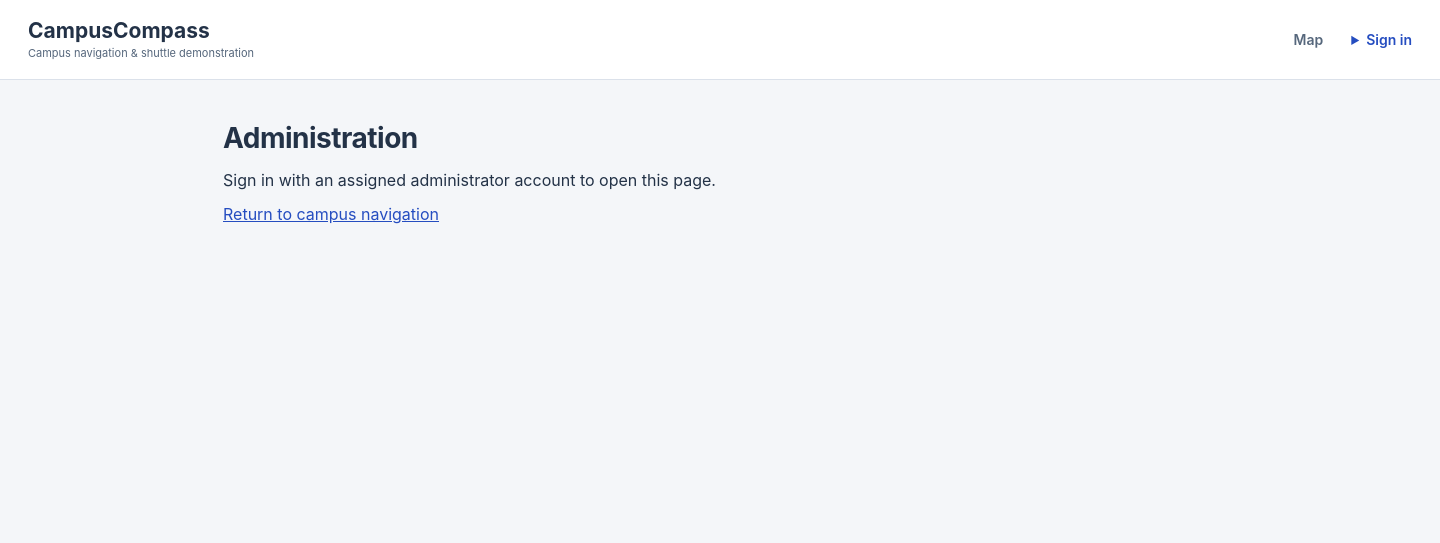
Scenario: direct admin URL is protected and a student has no admin controls
Check: the message shows "assigned administrator", box [223,170,716,190]
Click the heading "Sign in".
click(1389, 40)  # box [1366,31,1412,48]
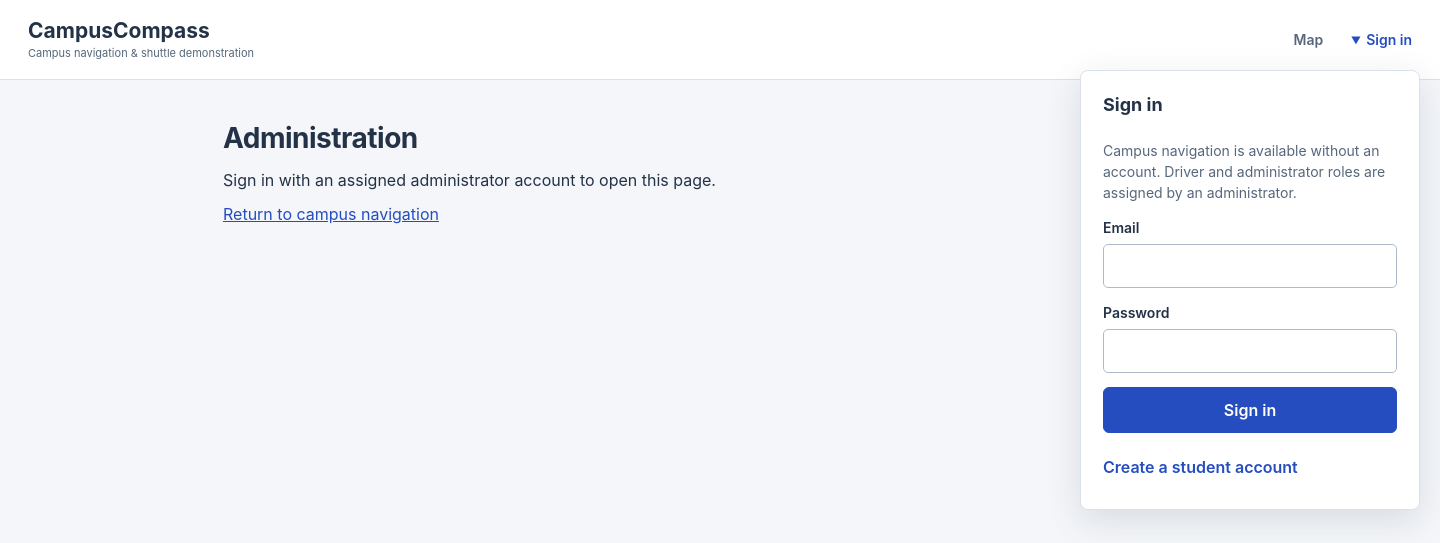
Type "demo@example.test" into the field labelled "Email".
click(1250, 266); type("demo@example.test")  # box [1103,244,1397,288]
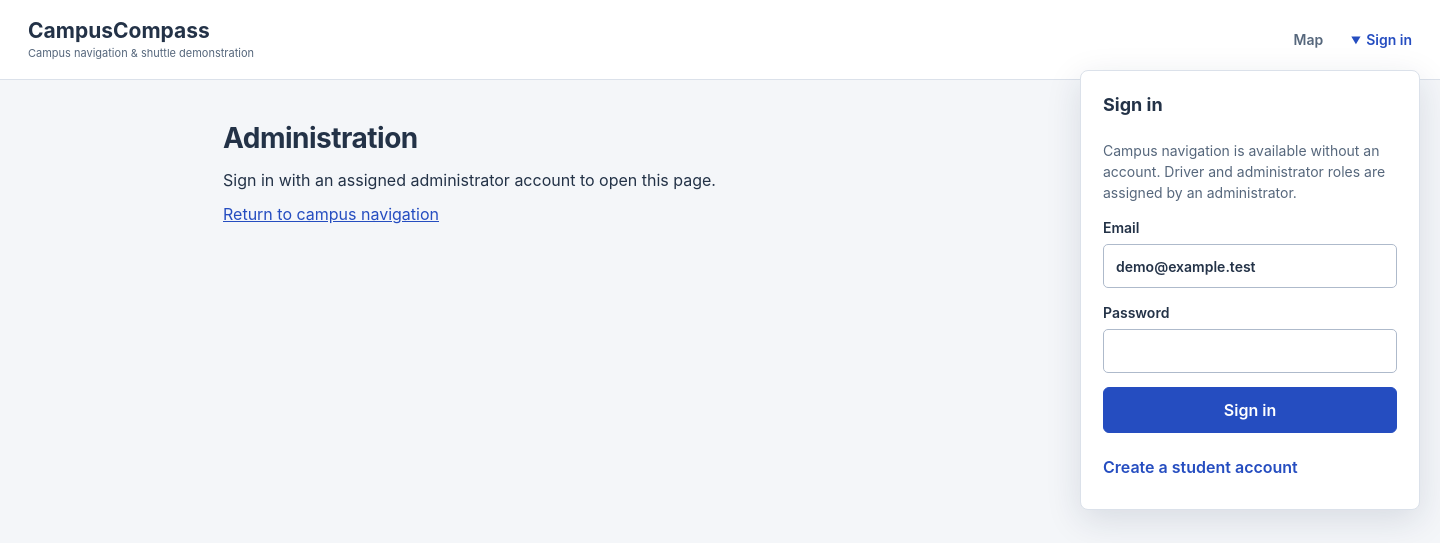
Type "demo-long-password" into the password field labelled "Password".
click(1250, 351); type("demo-long-password")  # box [1103,329,1397,373]
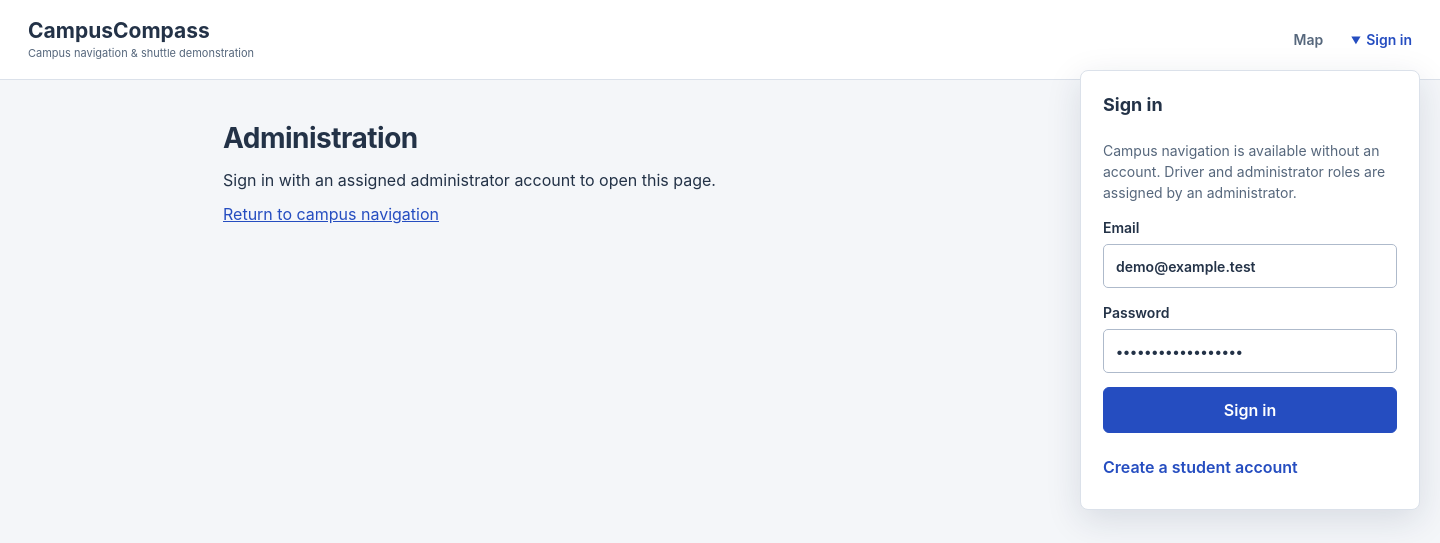
Submit the form named "Email", box [1080,70,1420,510]
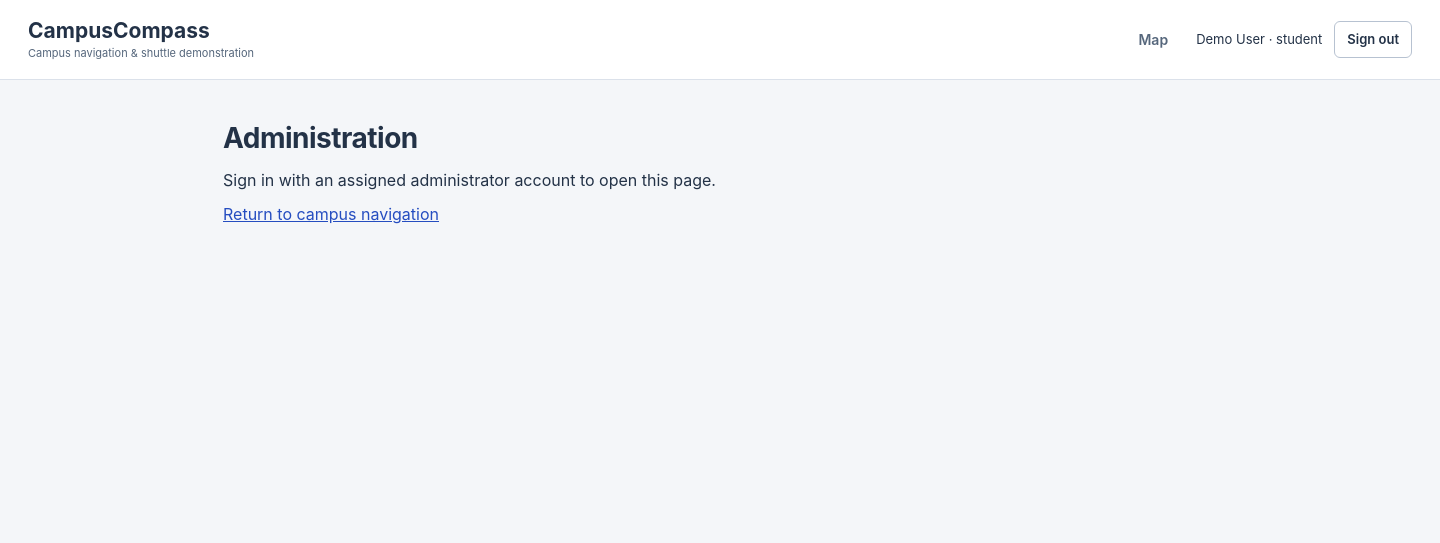
Check: the button "Sign out" is shown, box [1334,21,1412,58]
